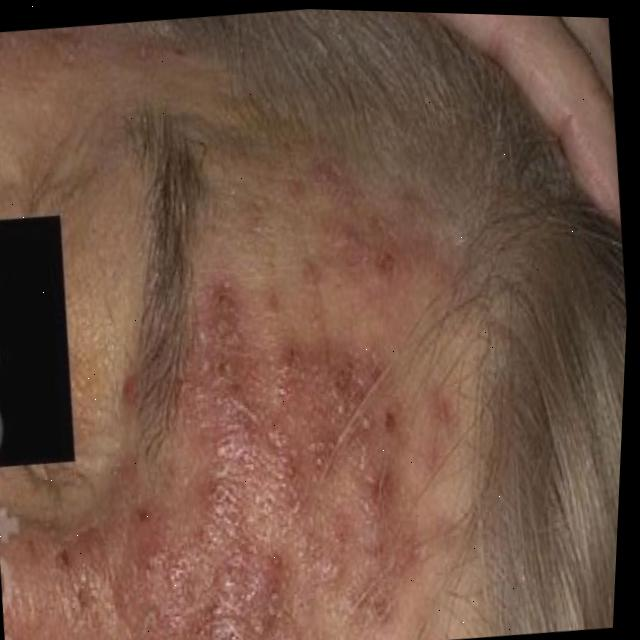Rosacea: (139, 274, 436, 640), (0, 490, 189, 640)
